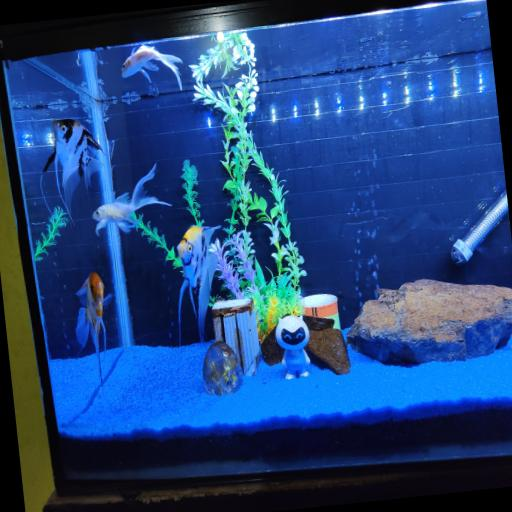Fish: (93, 164, 171, 235), (44, 119, 101, 216), (178, 226, 220, 344), (76, 272, 112, 384), (122, 45, 182, 90)
